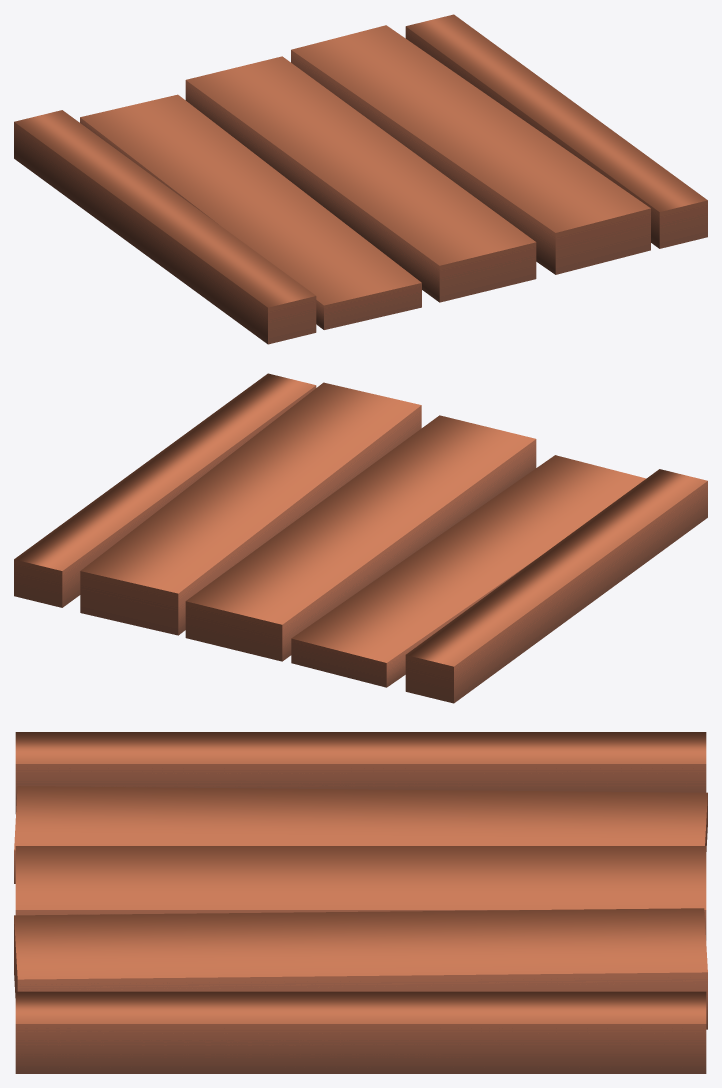
File: platform.glb
3 views of the same model, one above another, from view 1: azimuth 30°, elevation 25°; view 2: azimuth 150°, elevation 25°; view 3: azimuth 270°, elevation 25° (orthographic). The views are drawn at different scales.
Visible parts, largest first — view 1: platform; view 2: platform; view 3: platform.
Boxes of the visible parts, x1,y1,x2,y2 form: platform: [14, 14, 707, 344]; platform: [14, 373, 707, 703]; platform: [14, 732, 707, 1073].
Size of the model in its own units: 2.5 by 0.228 by 2.51.
1 material, 1 textured.
